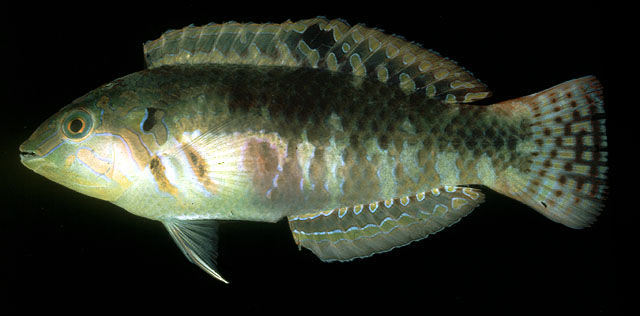fish: (19, 15, 609, 285)
